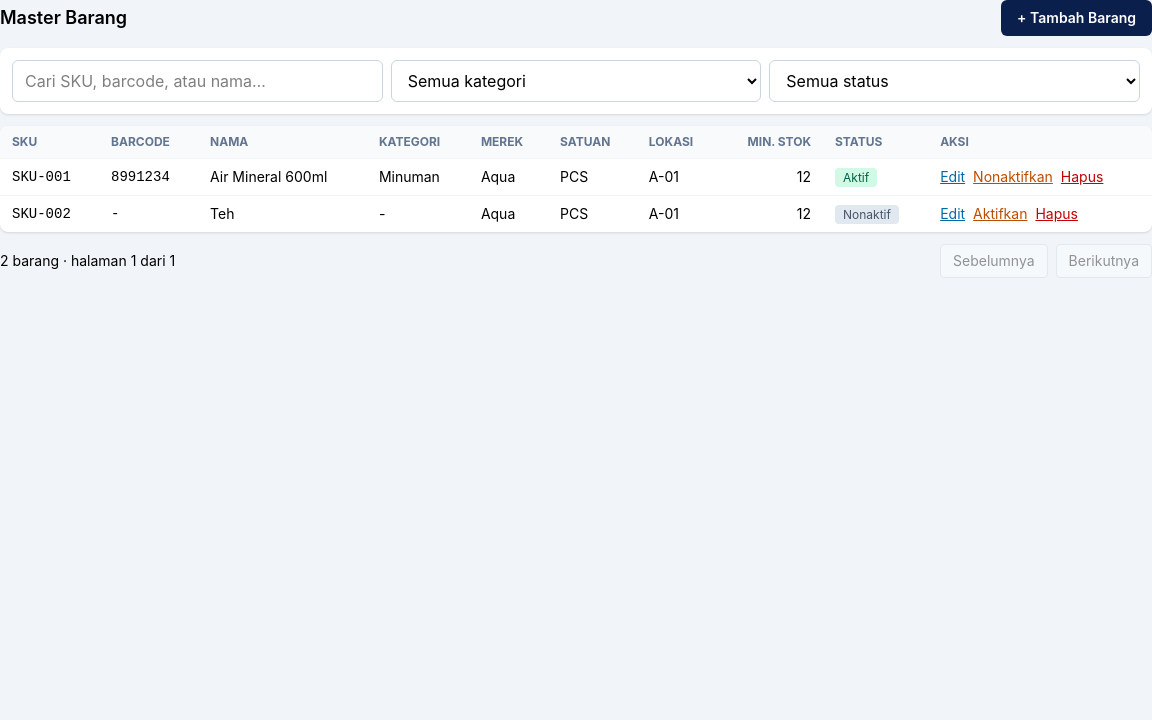
Test case: Master Barang › SKU/barcode ganda ditolak server: pesan tampil dan formulir tetap terbuka
Click the button "+ Tambah Barang" at (1077, 18), box x1=1001 y1=0 x2=1151 y2=36
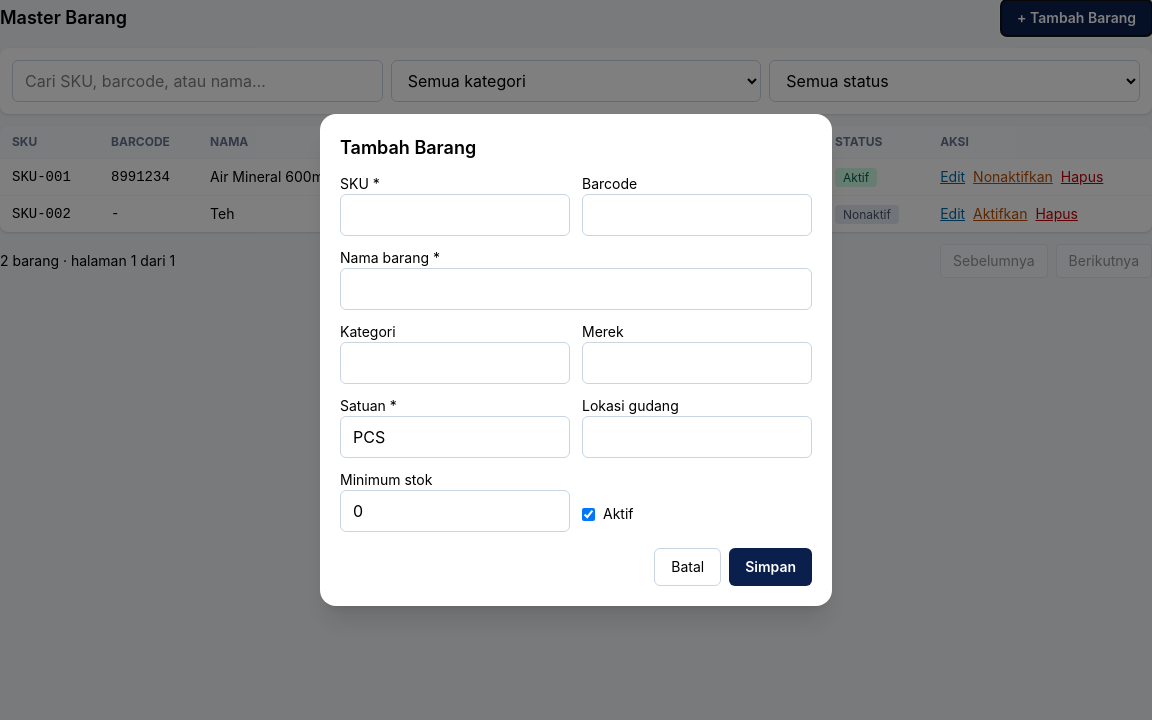
Type "SKU-001" into the field labelled "SKU *" at (455, 215), box x1=340 y1=194 x2=570 y2=236
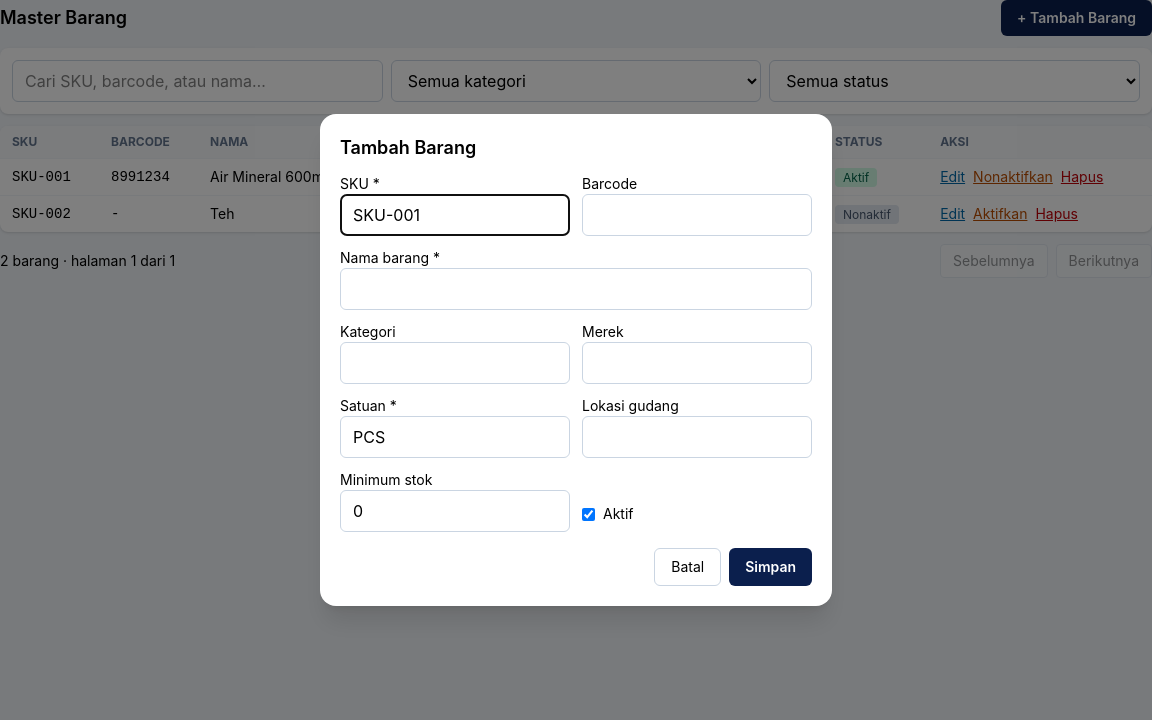
Type "Dobel" into the field labelled "Nama barang *" at (576, 289), box x1=340 y1=268 x2=812 y2=310
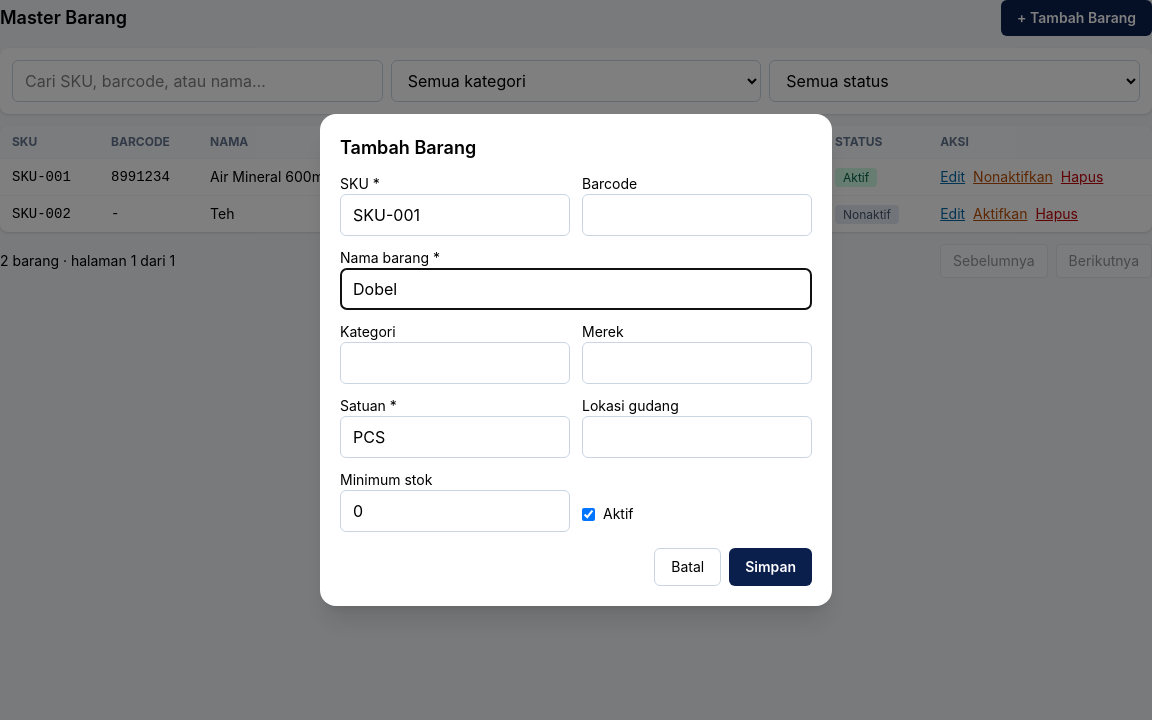
Click the button "Simpan" at (771, 567), box x1=729 y1=548 x2=812 y2=586
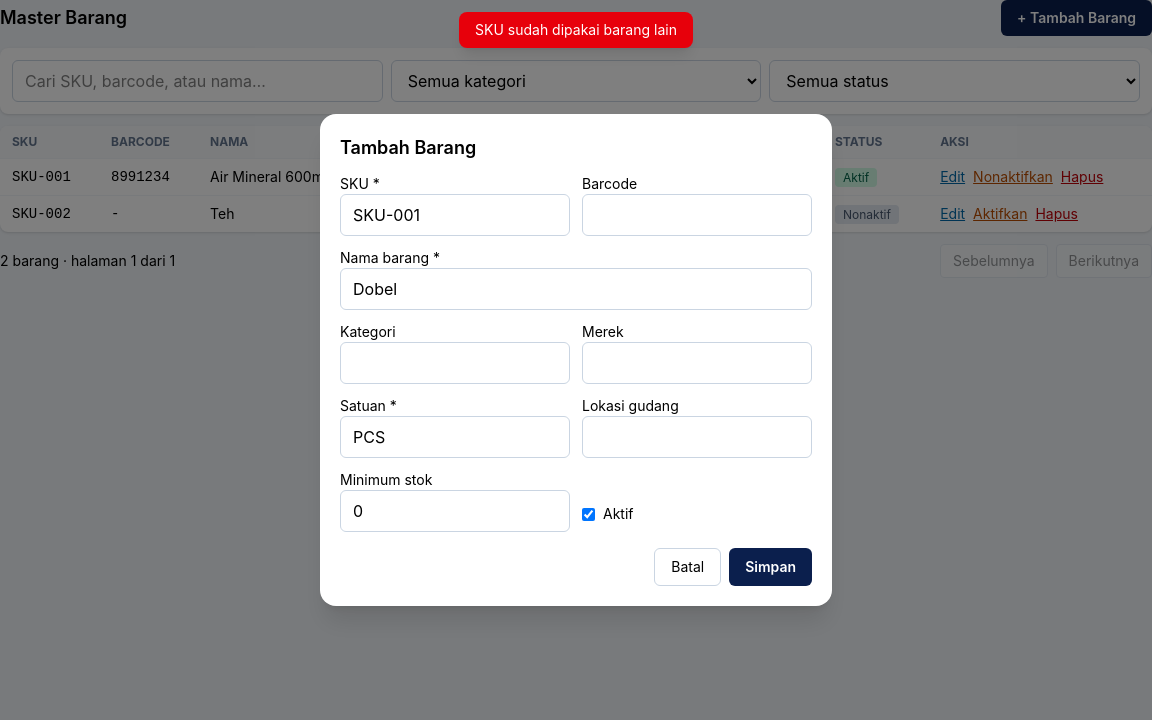
Now the dialog is shown
Now the text "SKU sudah dipakai barang lain" is shown, box x1=459 y1=12 x2=693 y2=48
